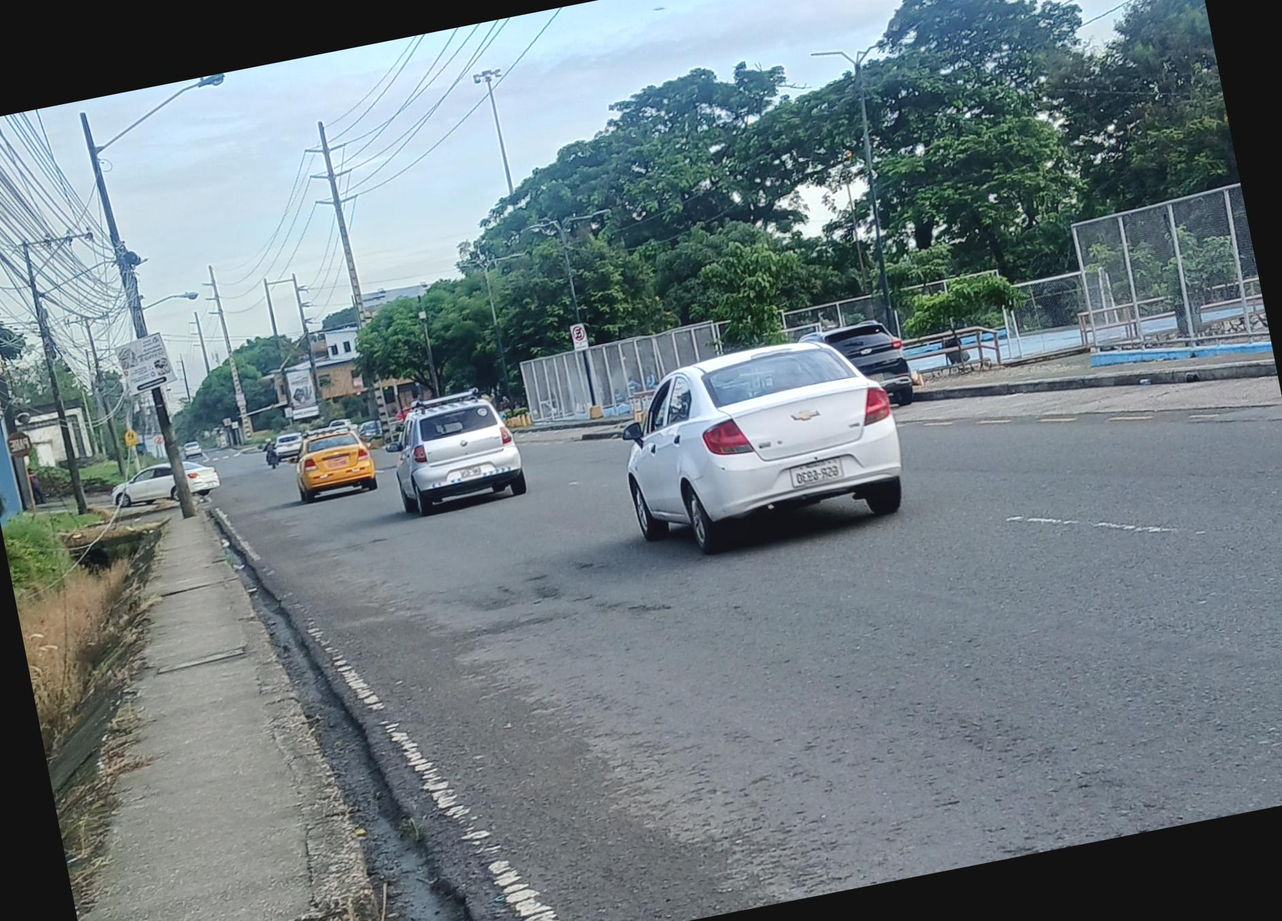license_plate: (791, 458, 843, 487), (325, 455, 349, 470), (458, 465, 481, 479)
